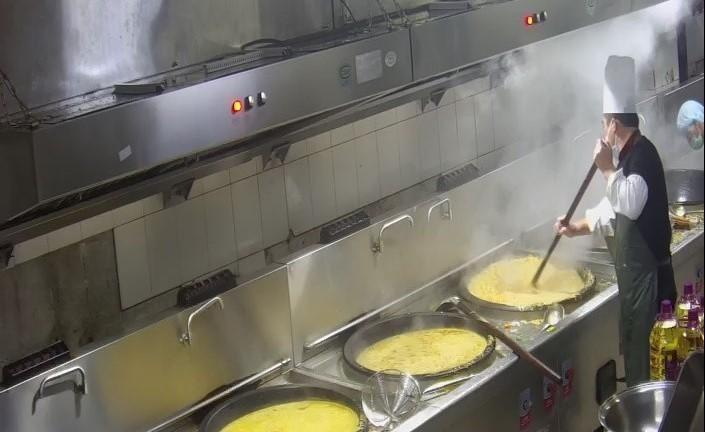gloves: (674, 97, 705, 132)
mask: (680, 131, 705, 154)
